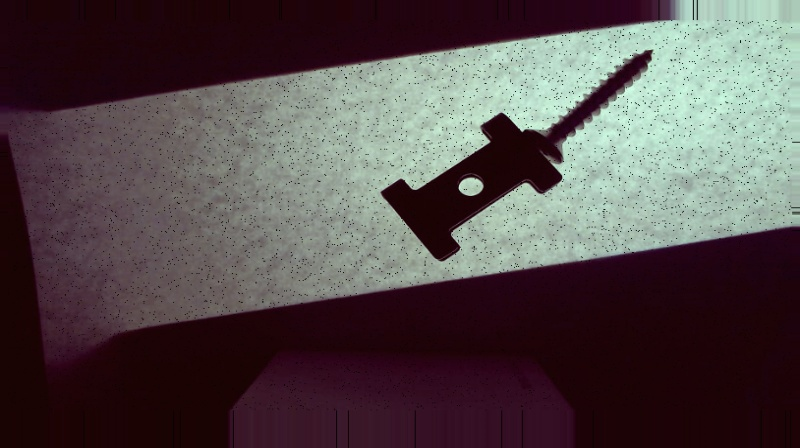O002: (379, 111, 562, 260)
S001: (521, 46, 657, 162)
